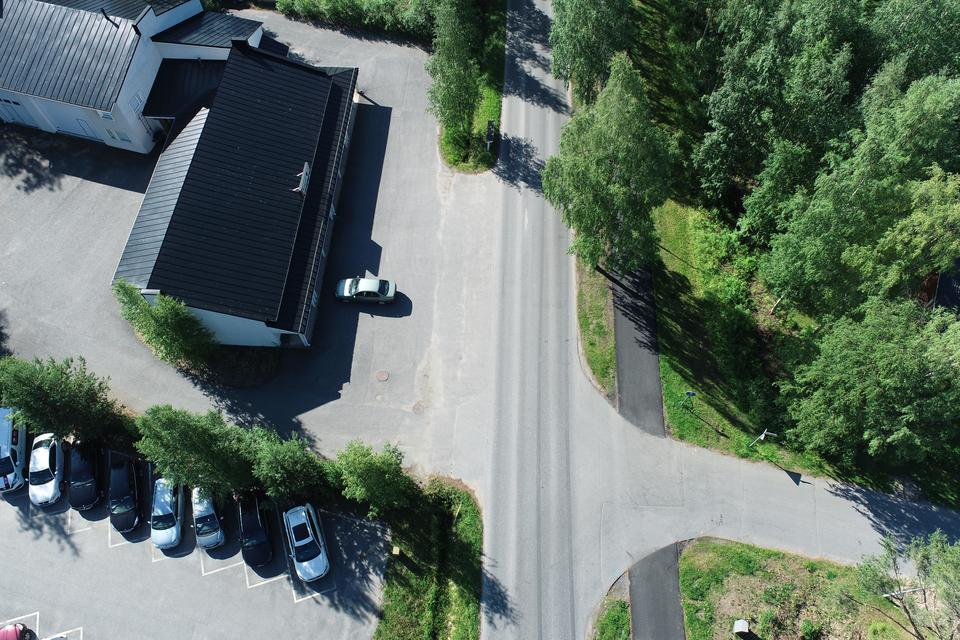intersection: (436, 376, 738, 599)
